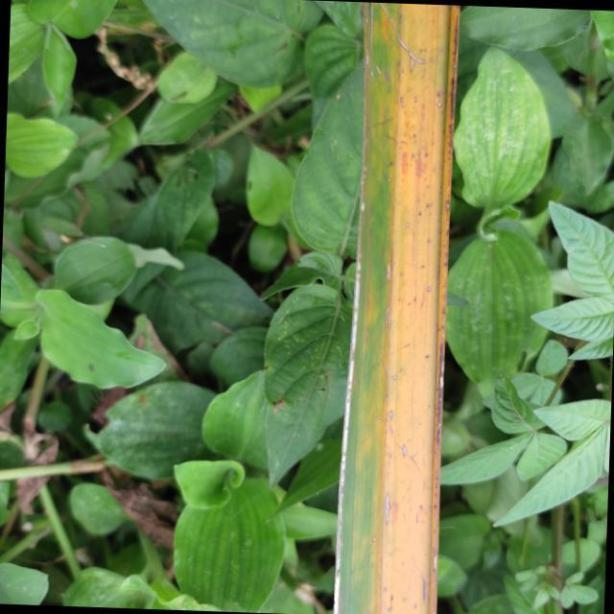Megnesium: (334, 0, 462, 614)
